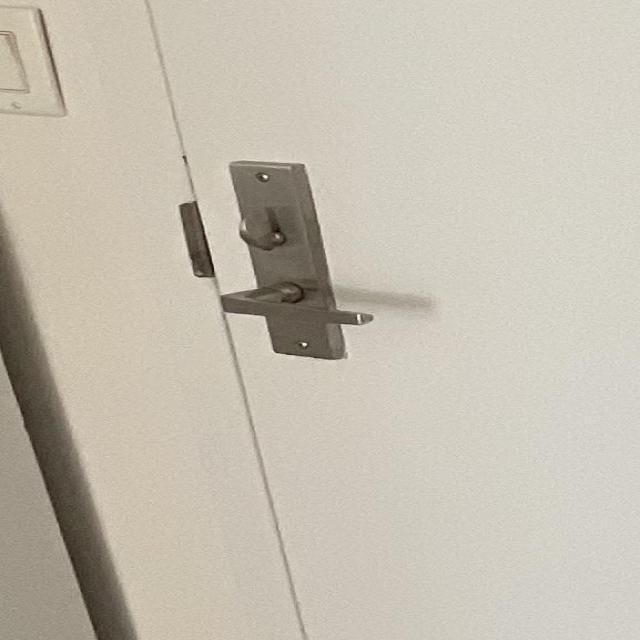door_handle: (201, 273, 382, 351)
